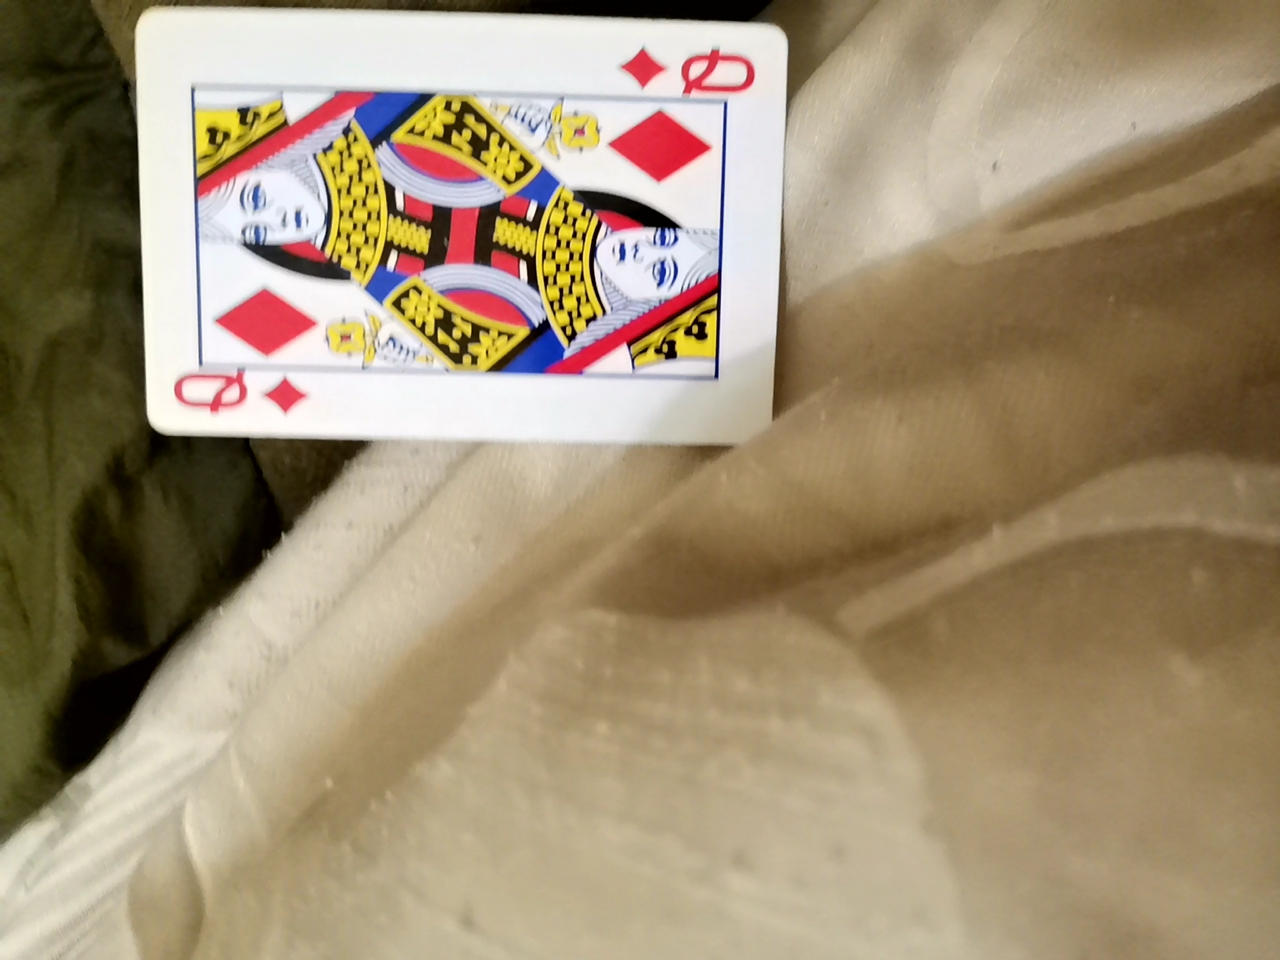fk q: (107, 55, 774, 499)
